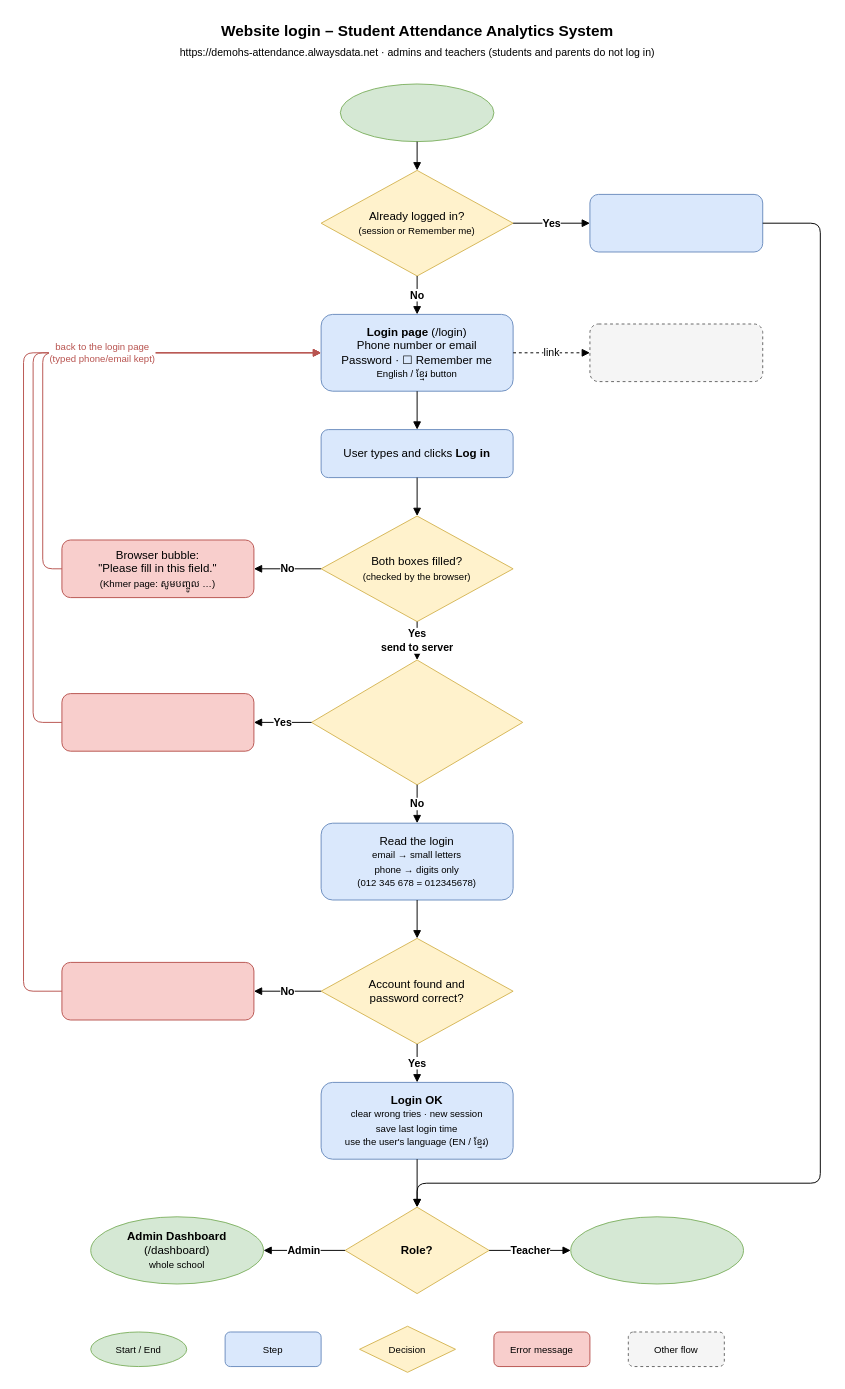
Image size: 845x1389. Some labels were removed from this diagram. Here are the shapes that lost their labels. From the top down, the centre of each, then its label:
(x=416, y=112): Start Open the website
(x=676, y=222): Skip the login page go to the start page of this role
(x=676, y=352): Forgot password? 6-digit code by Telegram (separate flowchart)
(x=157, y=722): Error: "Too many attempts. Try again in N seconds."
(x=417, y=722): 5 wrong tries in the last minute? (same account + same computer)
(x=157, y=990): Count 1 wrong try Error: "The email, phone or password is not correct."
(x=657, y=1250): My Dashboard (/my-dashboard) only own classes
